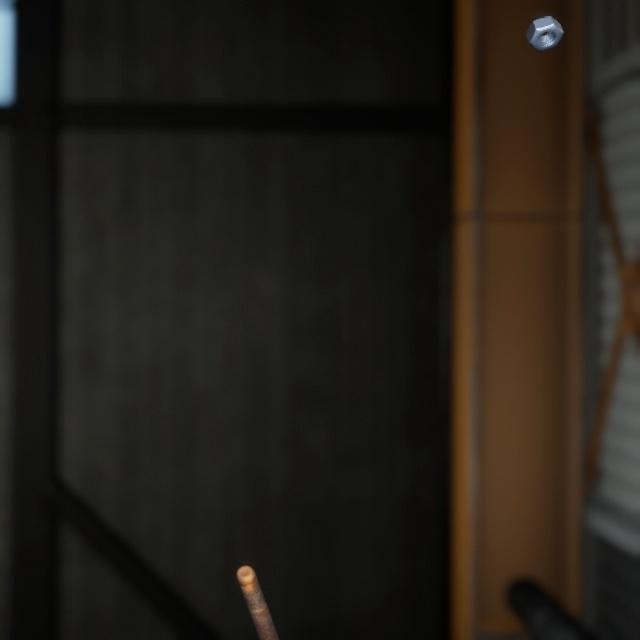bolt: (232, 536, 297, 640)
nut: (521, 2, 568, 47)
